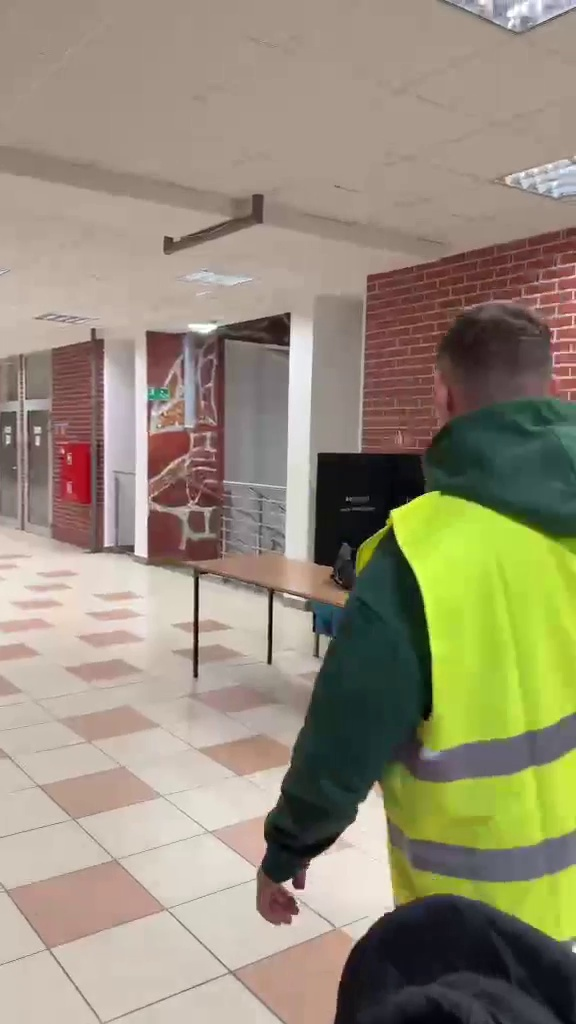vest: (261, 297, 570, 947)
